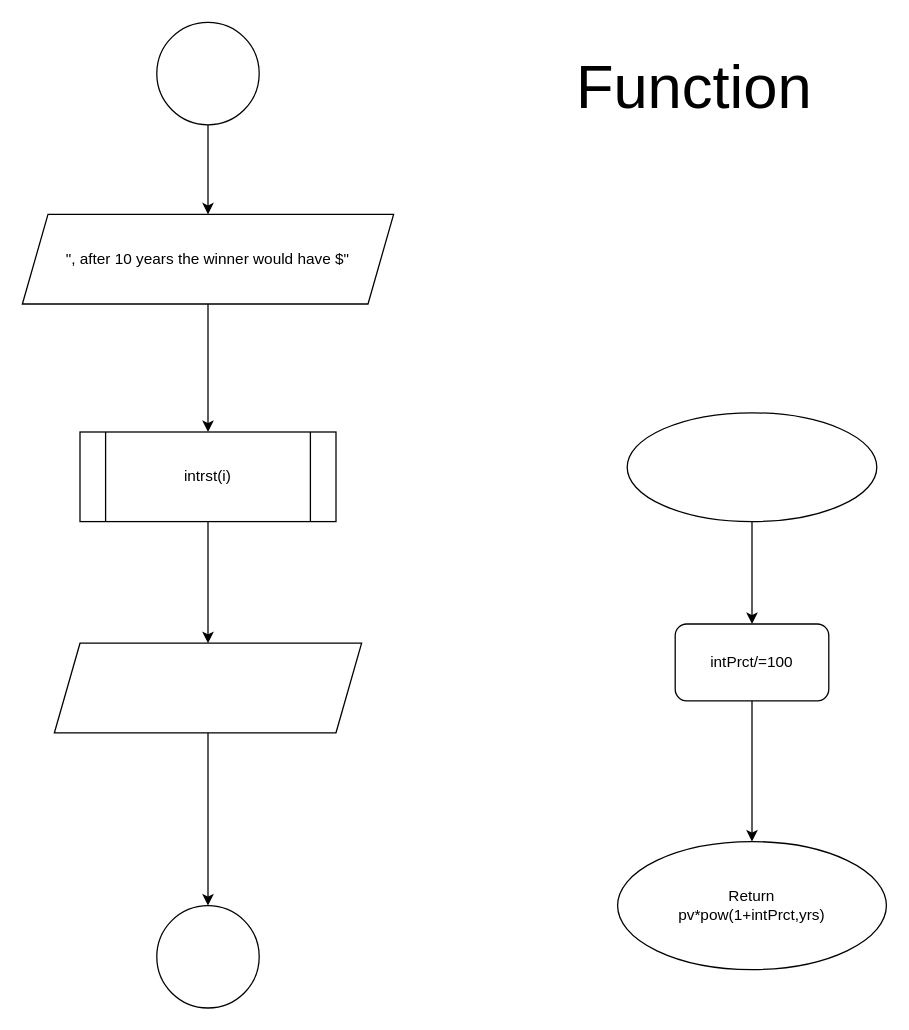
This 909x1030 diagram has some shape labels left out. Here are the shapes that lost their labels. From the top down, the centre of each, then its label:
the point at 751,467: float intrst(float intPrct, int pv, int yrs)
the point at 207,687: "Go to output file to see results"
